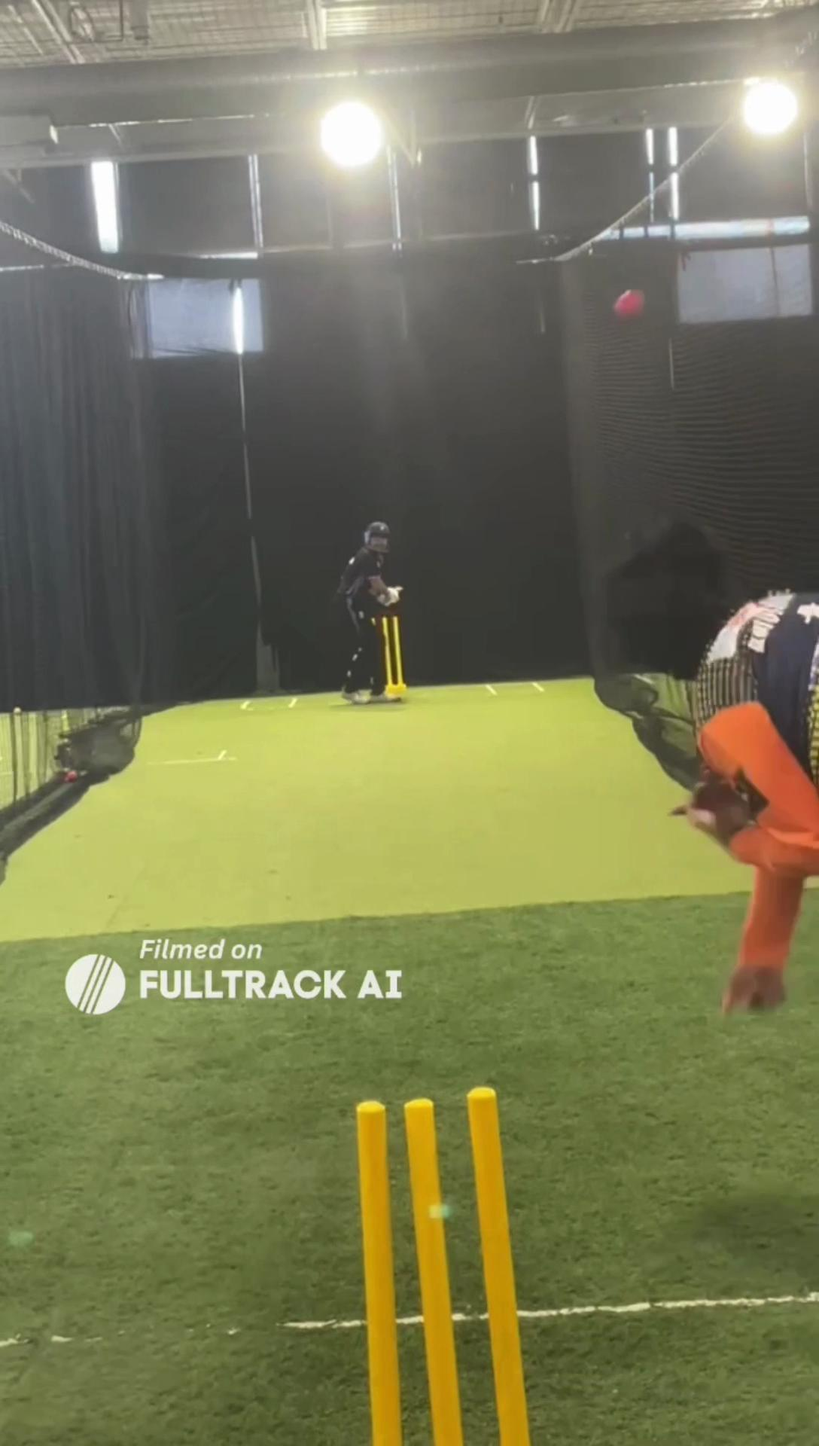ball: (616, 287, 647, 323)
